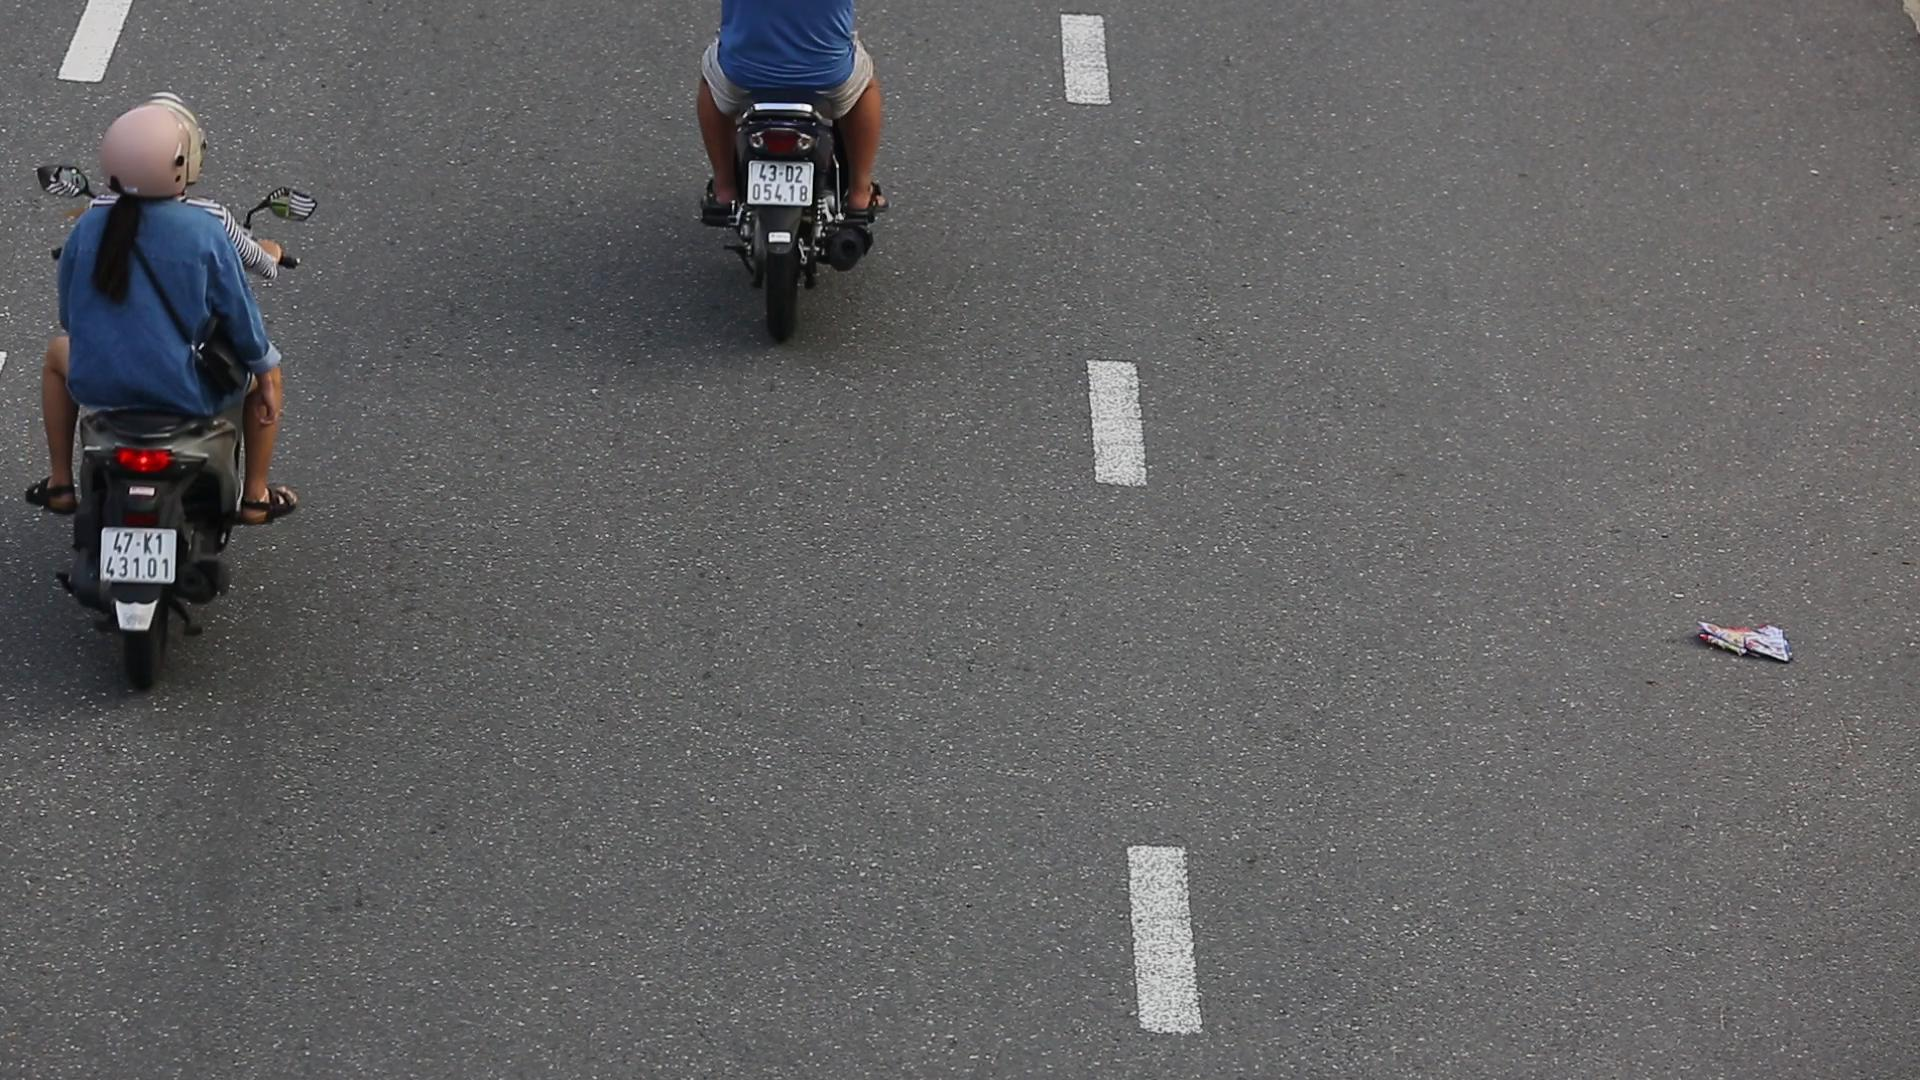motobike: (24, 65, 320, 703)
